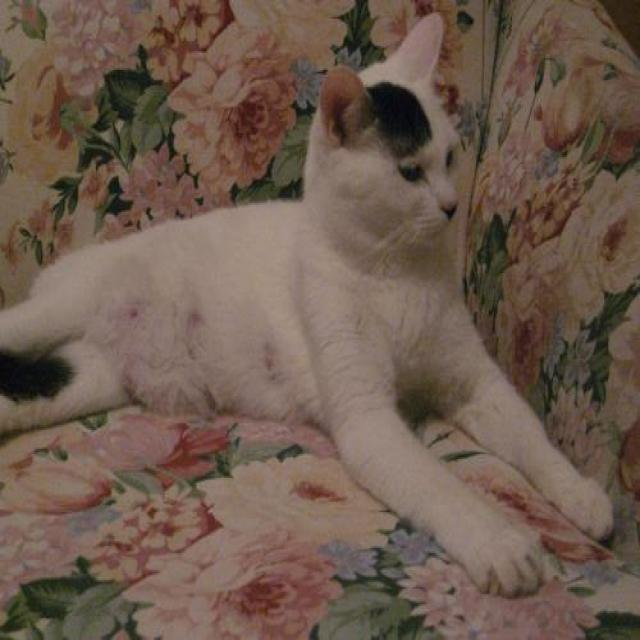Cats: (0, 51, 614, 595)
